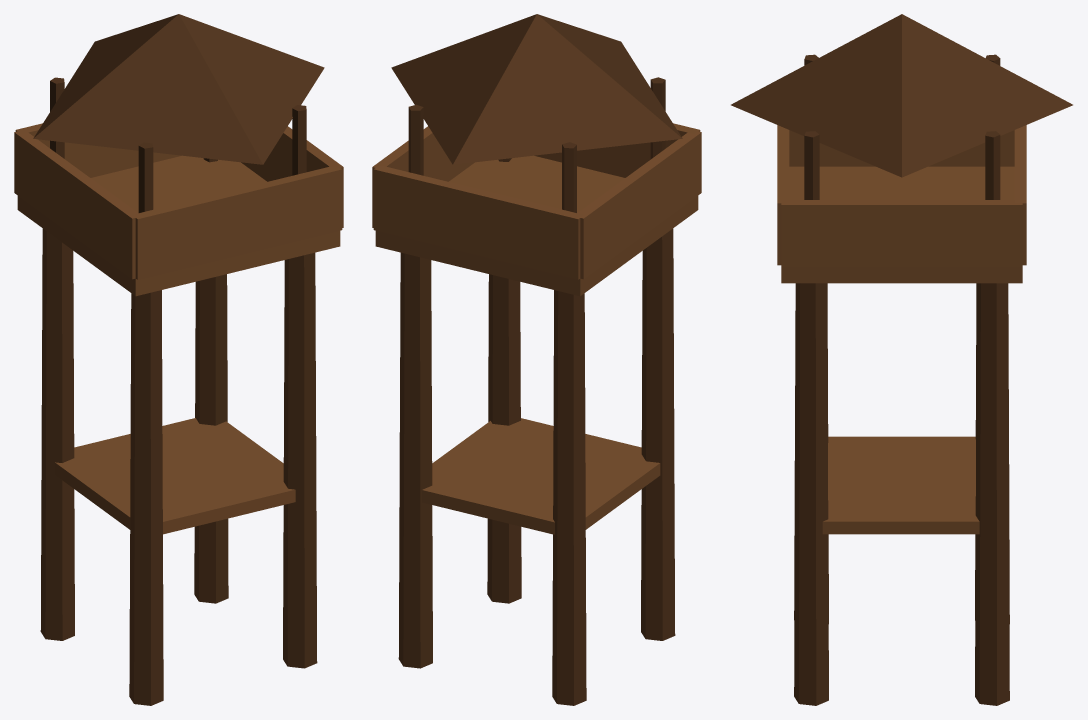
The model's file is human_tower_broken.glb.
3 views of the same model, side by side, from view 1: azimuth 30°, elevation 25°; view 2: azimuth 150°, elevation 25°; view 3: azimuth 270°, elevation 25° (orthographic). The views are drawn at different scales.
Parts seen in each view (by area): view 1: human_tower_piece2, human_tower_piece8, human_tower_piece12, human_tower_piece0, human_tower_piece3, human_tower_piece6, human_tower_piece4, human_tower_piece9, human_tower_piece10, human_tower_piece5, human_tower_piece1, human_tower_piece7 (+1 smaller); view 2: human_tower_piece5, human_tower_piece0, human_tower_piece7, human_tower_piece4, human_tower_piece12, human_tower_piece2, human_tower_piece9, human_tower_piece3, human_tower_piece1, human_tower_piece6, human_tower_piece11, human_tower_piece8 (+1 smaller); view 3: human_tower_piece7, human_tower_piece5, human_tower_piece8, human_tower_piece6, human_tower_piece9, human_tower_piece0, human_tower_piece1, human_tower_piece2, human_tower_piece4, human_tower_piece12, human_tower_piece11, human_tower_piece3 (+1 smaller).
Part boxes in pixels (x1,y1,x2,y2): human_tower_piece2: (33,117,268,337); human_tower_piece8: (69,14,343,212); human_tower_piece12: (119,458,317,705); human_tower_piece0: (40,411,234,640); human_tower_piece3: (41,226,242,462); human_tower_piece6: (205,315,316,605); human_tower_piece4: (14,52,343,282); human_tower_piece9: (162,349,272,603); human_tower_piece10: (213,149,315,331); human_tower_piece5: (41,14,317,170); human_tower_piece1: (69,36,315,290); human_tower_piece7: (134,54,324,188); human_tower_piece5: (427,14,656,144); human_tower_piece0: (470,351,674,705); human_tower_piece7: (372,54,476,304); human_tower_piece4: (492,135,629,349); human_tower_piece12: (487,413,675,640); human_tower_piece2: (559,36,701,388); human_tower_piece9: (398,419,495,668); human_tower_piece3: (553,146,673,536); human_tower_piece1: (441,127,569,369); human_tower_piece6: (461,274,526,568); human_tower_piece11: (400,299,431,439); human_tower_piece8: (537,14,653,111); human_tower_piece7: (848,112,1054,350); human_tower_piece5: (826,14,1036,225); human_tower_piece8: (754,14,902,240); human_tower_piece6: (794,344,917,681); human_tower_piece9: (884,445,1009,705); human_tower_piece0: (795,328,1009,623); human_tower_piece1: (789,85,1072,354); human_tower_piece2: (731,54,960,199); human_tower_piece4: (777,54,1026,310); human_tower_piece12: (794,373,874,705); human_tower_piece11: (976,327,1008,463); human_tower_piece3: (789,190,1008,447).
Bounding box in the file's own units: 1.71 × 3.55 × 1.71.
